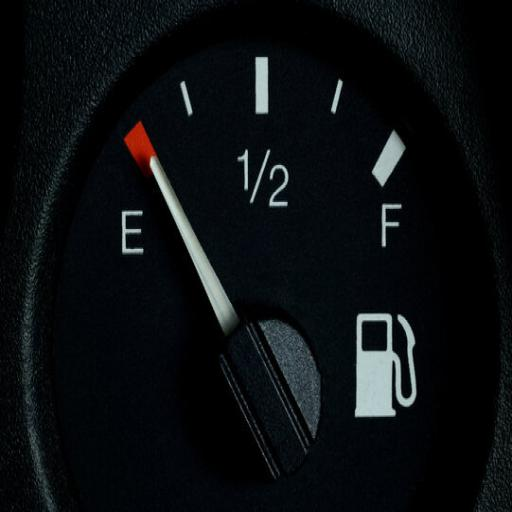empty: (118, 200, 148, 268)
fuel_icon: (352, 304, 421, 434)
full: (375, 196, 406, 252)
guage_area: (9, 0, 505, 512)
needle_center: (187, 299, 328, 489)
needle_tip: (139, 156, 180, 198)
